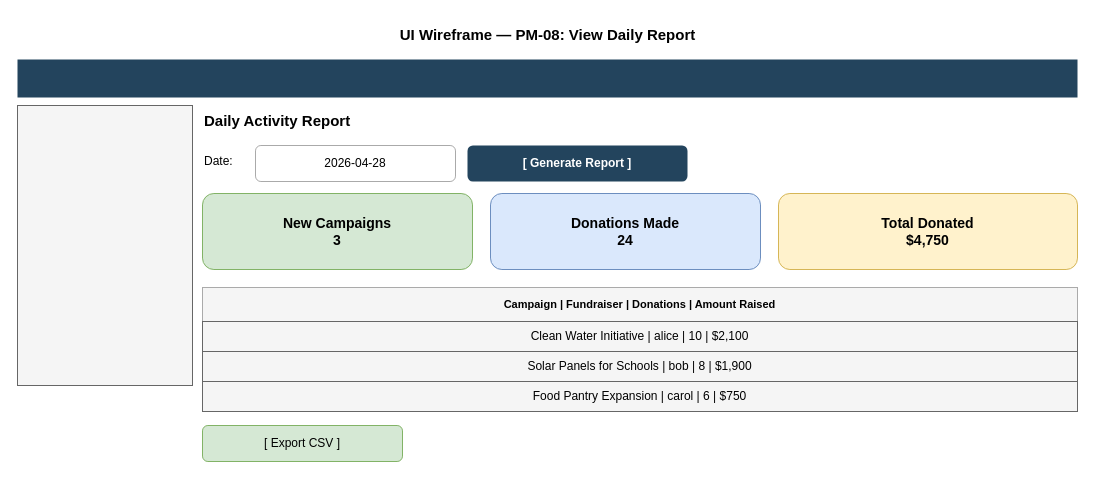
Some shapes in this 1095 by 479 pixel diagram are drawn without their labels. Each missing label, with the centre of its shape:
Hello Goodbye | Browse Campaigns Donations Notifications [Logout]: (547,78)
📋 Dashboard ✅ Review Campaigns 📁 Campaign History 📊 Reports ⚙ Config: (104,245)
